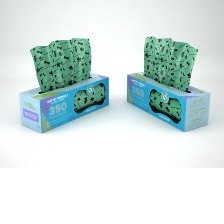book: (13, 67, 114, 137), (120, 66, 214, 135)
tissue: (24, 33, 97, 96), (139, 30, 201, 95)
